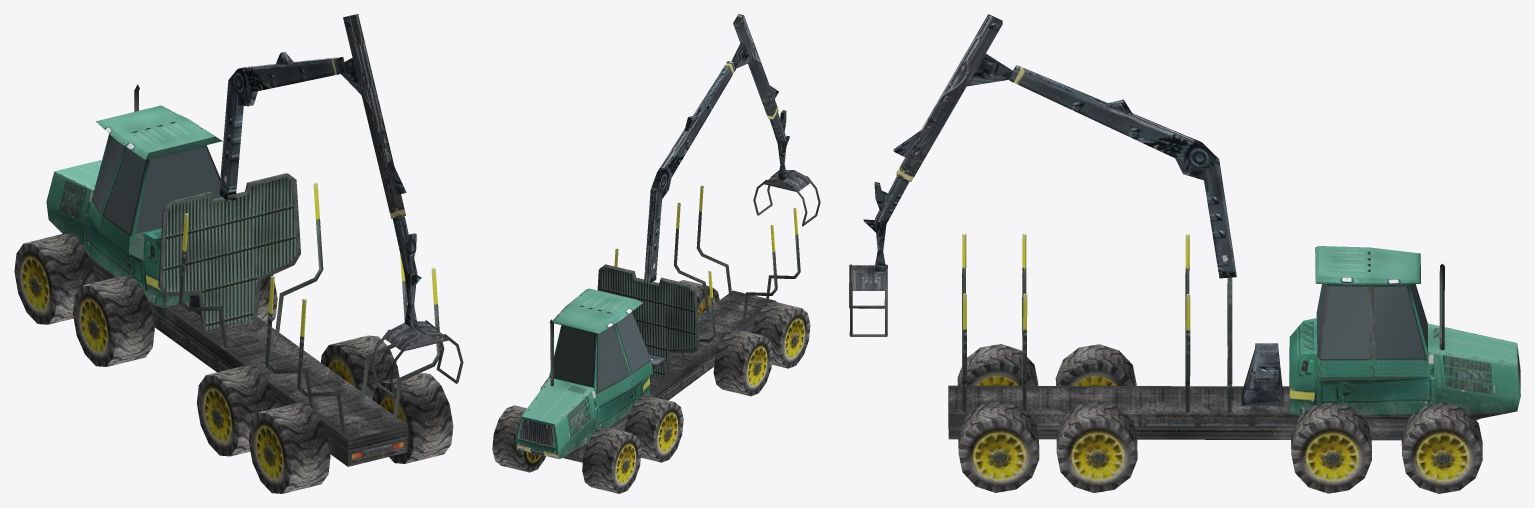
File: p54_42_forwarder_green.glb
The picture shows the model from 3 angles, left to right: view 1: azimuth 30°, elevation 25°; view 2: azimuth 150°, elevation 25°; view 3: azimuth 270°, elevation 25°; orthographic projection. The views are drawn at different scales.
Parts seen in each view (by area): view 1: Body, Glass; view 2: Body, Glass; view 3: Body, Glass.
Part boxes in pixels (x1,y1,x2,y2): Body: [14, 14, 463, 493]; Glass: [92, 135, 221, 234]; Body: [492, 14, 820, 493]; Glass: [554, 312, 650, 391]; Body: [849, 14, 1520, 493]; Glass: [1316, 284, 1427, 358].
Bounding box in the file's own units: 3.26 × 8.81 × 12.19.
2 materials, 2 textured.
